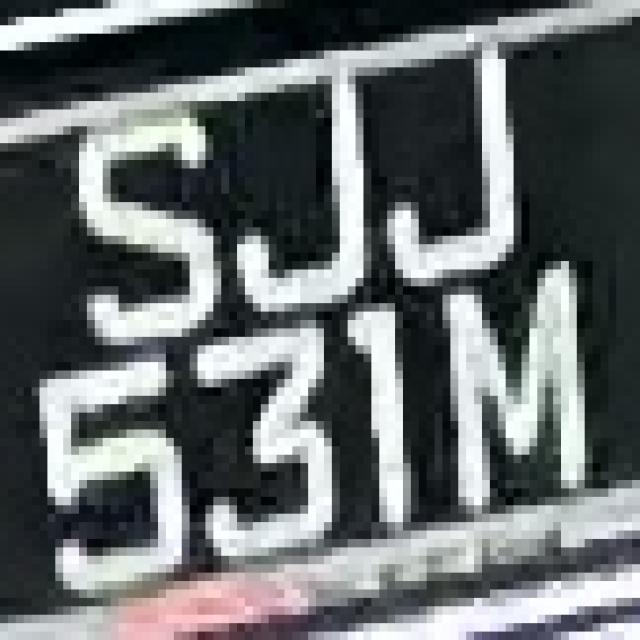1: (348, 253, 427, 564)
3: (174, 303, 355, 573)
5: (23, 345, 190, 598)
J: (221, 51, 395, 320), (363, 42, 538, 303)
M: (442, 253, 608, 522)
S: (63, 92, 237, 354)
